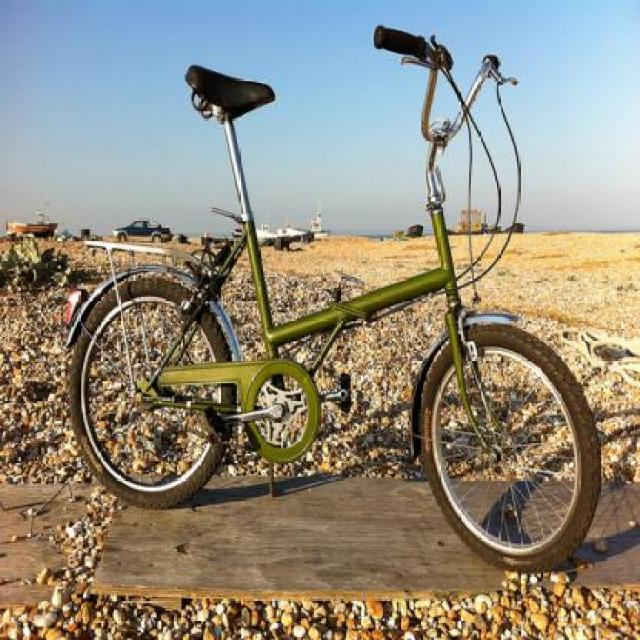ship: (6, 195, 56, 233)
